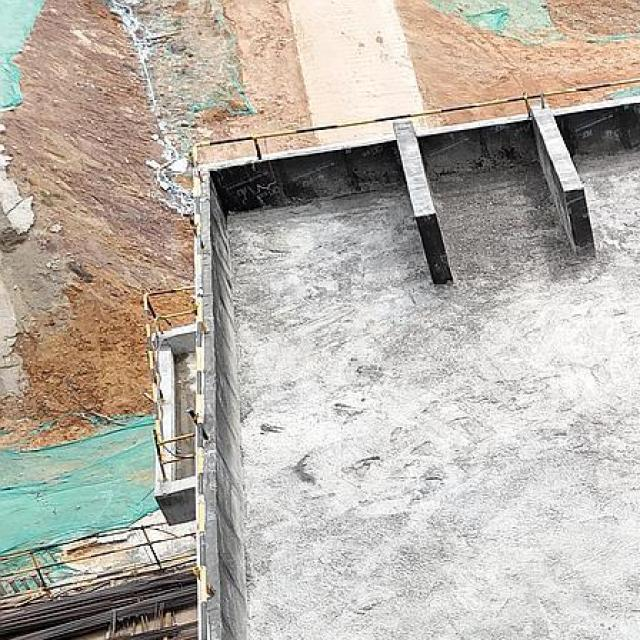edge_guardrail: (193, 77, 640, 640), (0, 521, 197, 602), (142, 284, 198, 483)
